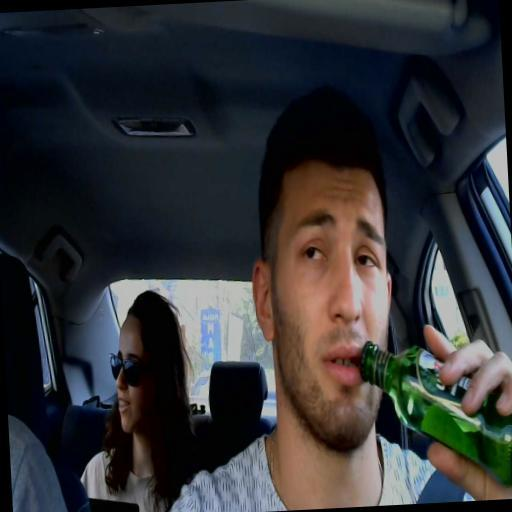Drinking: (253, 164, 512, 491)
